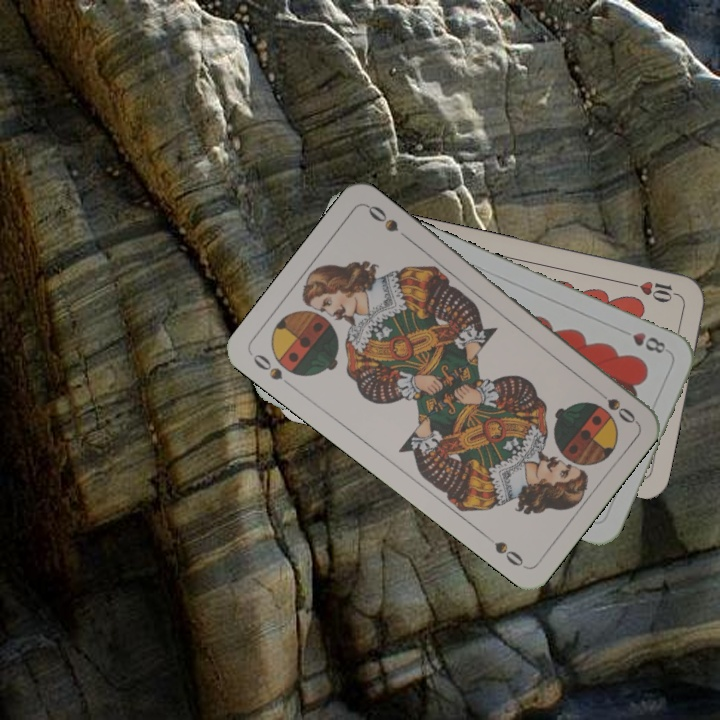H10: (624, 277, 683, 305)
H8: (616, 325, 668, 356)
SO: (589, 382, 638, 427), (248, 349, 297, 392)
